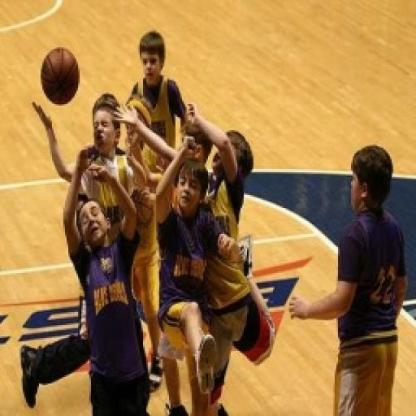basketball: (40, 41, 80, 106)
